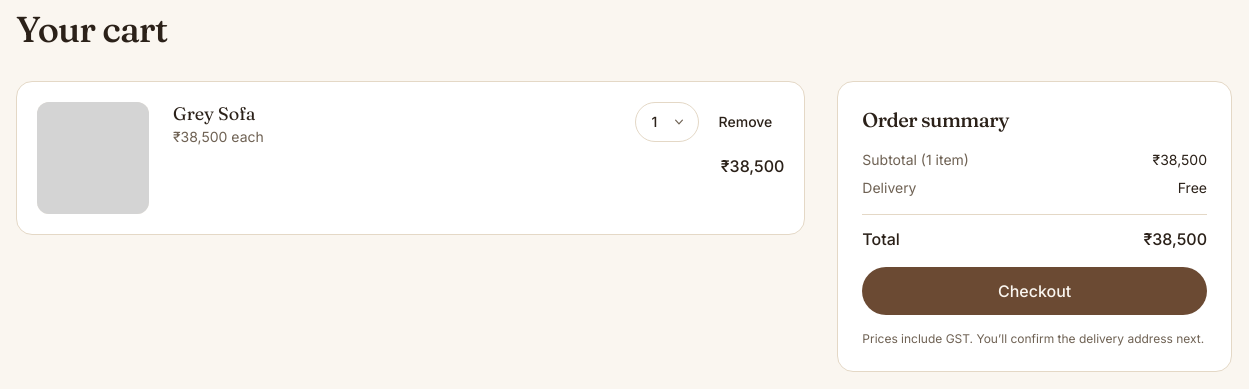
logged in › the server’s message is shown when an update is refused
Select "3" in the dropdown named "Quantity of Grey Sofa" at (667, 122), box x1=635 y1=102 x2=699 y2=142
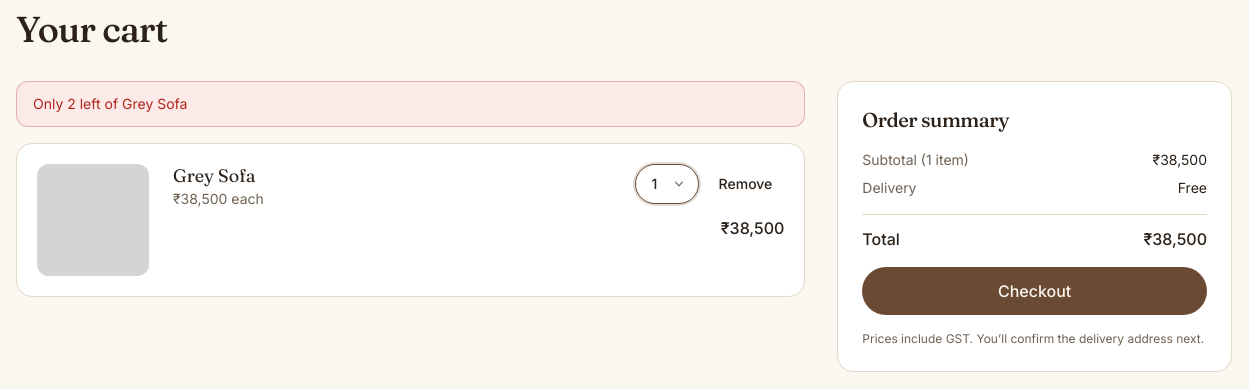
Check: the message reads "Only 2 left of Grey Sofa", box x1=33 y1=95 x2=187 y2=112
